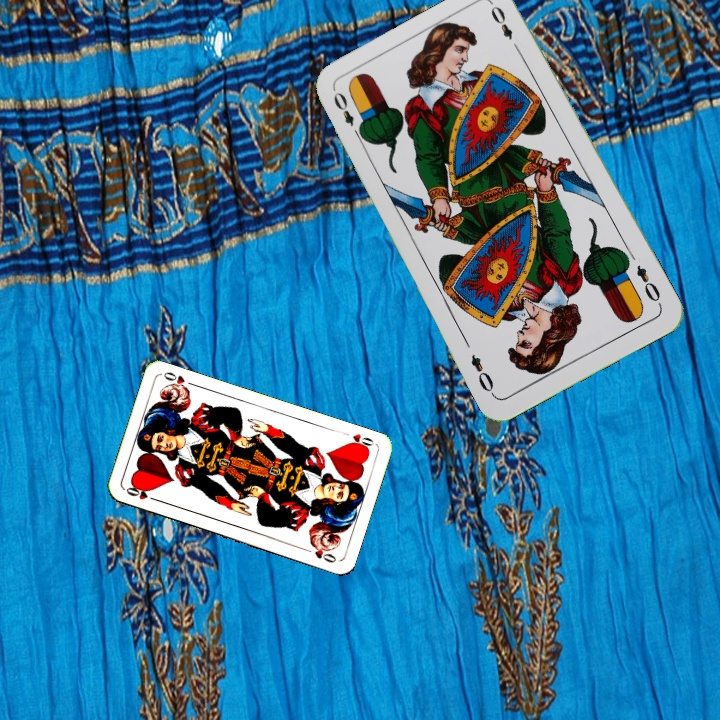EO: (329, 87, 366, 142), (632, 261, 665, 309)
HO: (122, 482, 161, 504), (344, 430, 376, 453)
